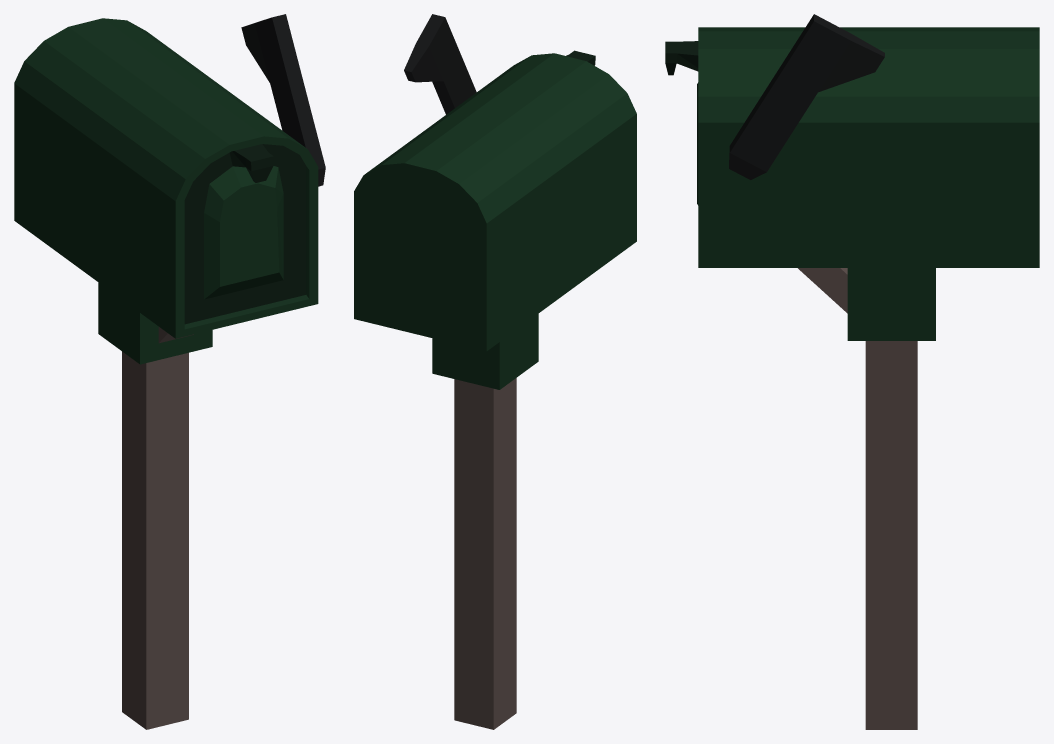
The model's file is Mailbox_1.FBX.
3 renders of one model, left to right at view 1: azimuth 30°, elevation 25°; view 2: azimuth 150°, elevation 25°; view 3: azimuth 270°, elevation 25°, orthographic. The views are drawn at different scales.
Parts seen in each view (by area): view 1: Box005; view 2: Box005; view 3: Box005.
Boxes of the visible parts, bbox=[...] form: Box005: bbox=[14, 14, 325, 729]; Box005: bbox=[354, 14, 636, 729]; Box005: bbox=[665, 14, 1039, 729].
Size of the model in its own units: 43.26 by 177 by 80.29.
